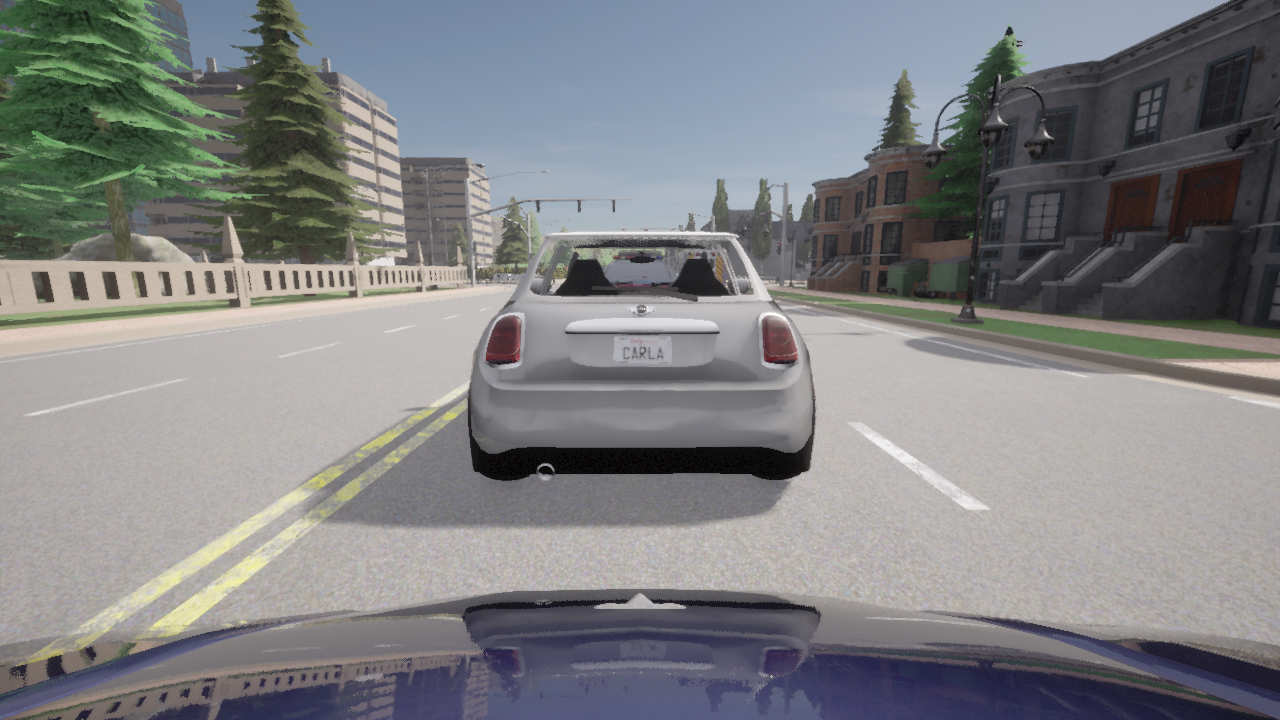cyclist: (0, 588, 1279, 719), (467, 231, 815, 480)
pedestrian: (496, 266, 501, 285)
